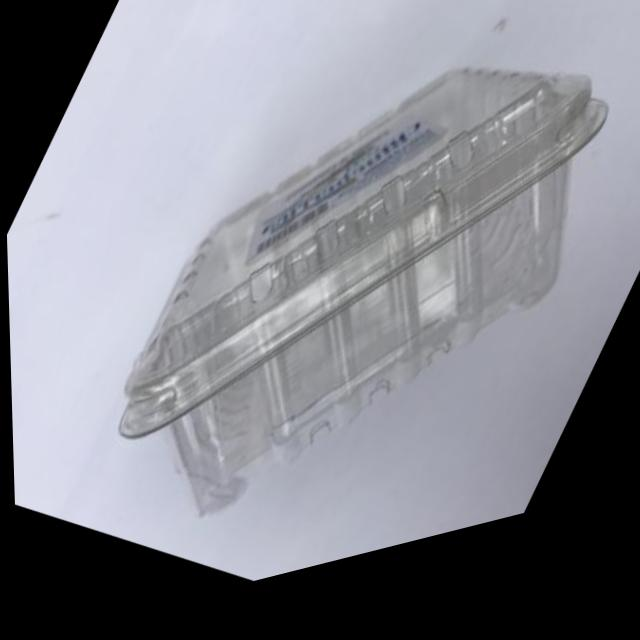plastic: (4, 0, 640, 639)
